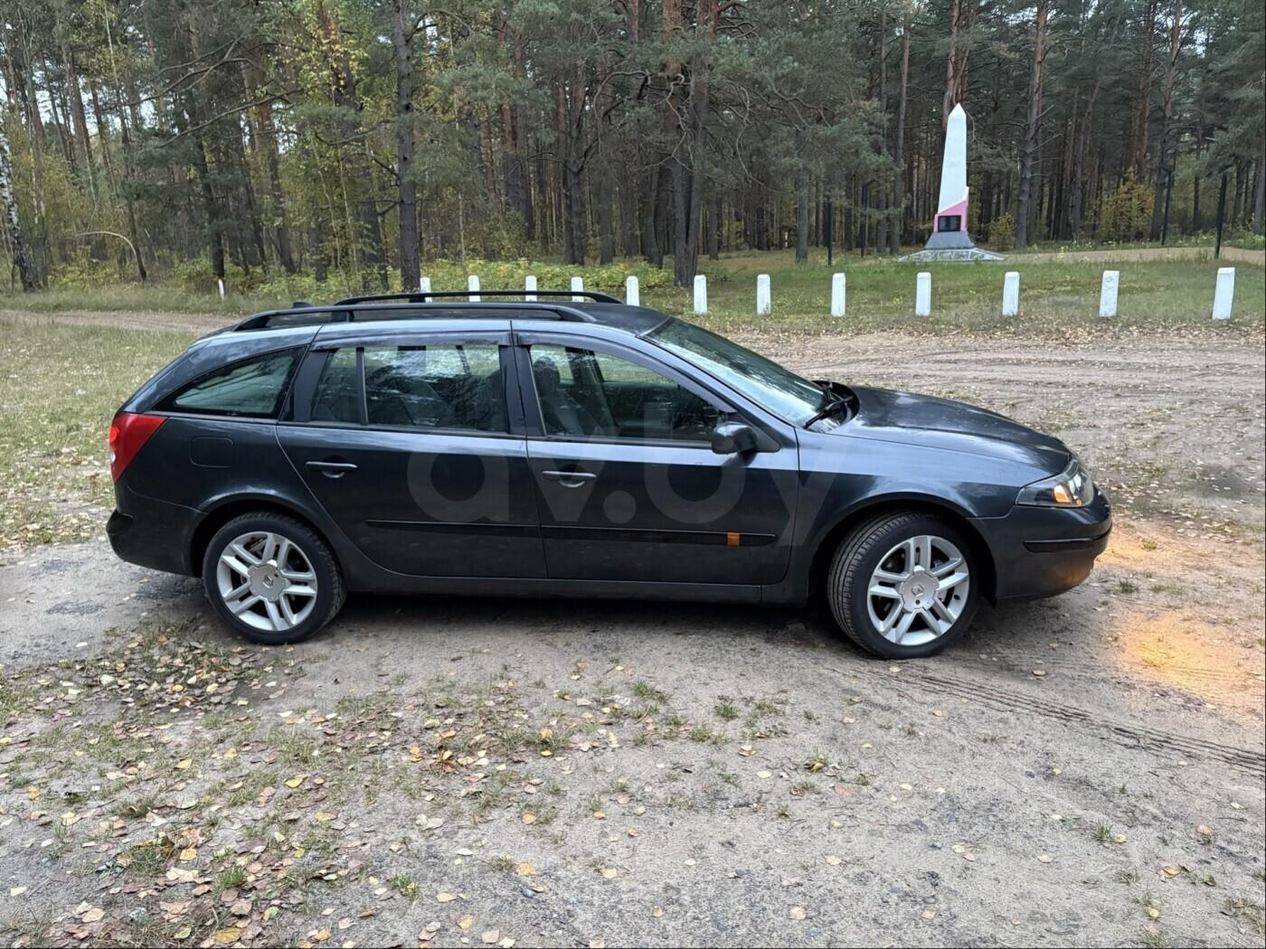Laguna_2001-2005: (108, 290, 1112, 658)
